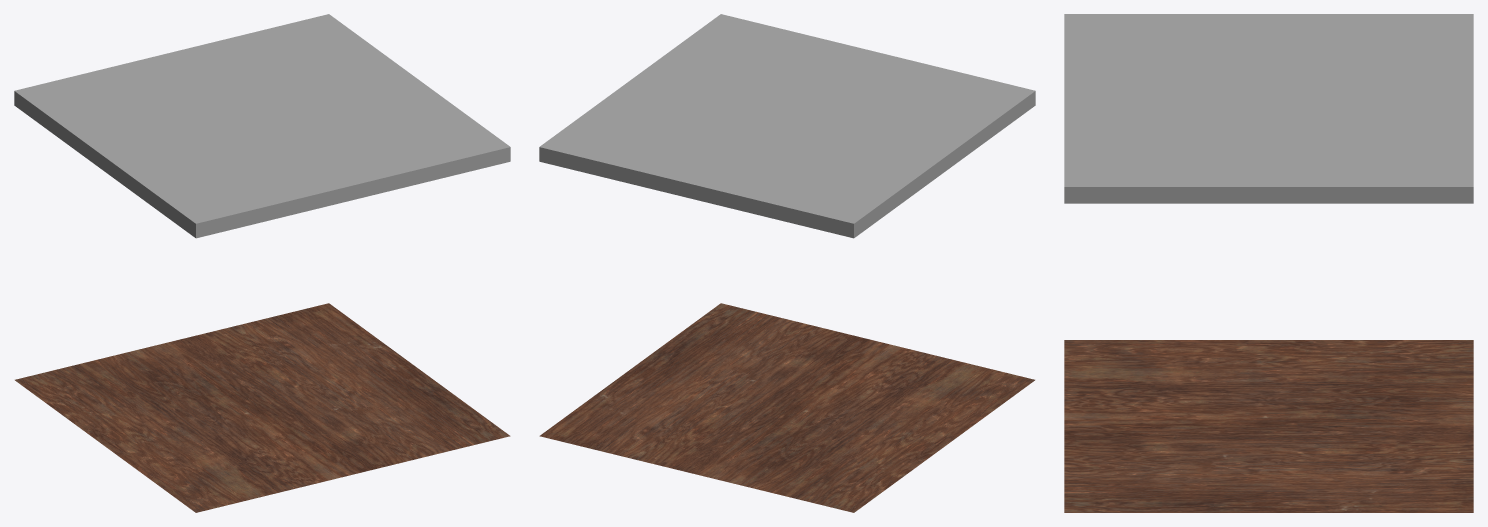
Rendered from floor2_special.fbx.
3 renders of one model, left to right at view 1: azimuth 30°, elevation 25°; view 2: azimuth 150°, elevation 25°; view 3: azimuth 270°, elevation 25°, orthographic. The views are drawn at different scales.
Parts seen in each view (by area): view 1: polySurface119; view 2: polySurface119; view 3: polySurface119.
Boxes of the visible parts, box(x1,y1,x2,y2) form: polySurface119: box(14, 14, 510, 512); polySurface119: box(539, 14, 1035, 512); polySurface119: box(1064, 14, 1473, 512).
Bounding box in the file's own units: 360 × 316 × 360.
